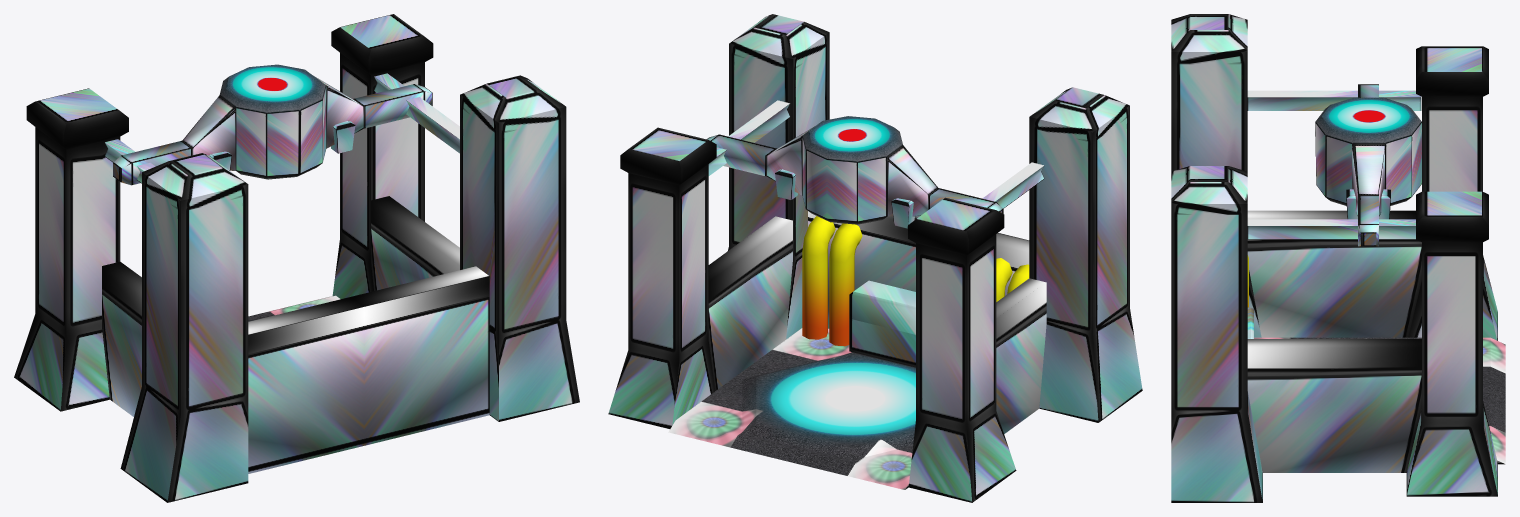
File: teleportpad.dae
3 renders of one model, left to right at view 1: azimuth 30°, elevation 25°; view 2: azimuth 150°, elevation 25°; view 3: azimuth 270°, elevation 25°, orthographic. The views are drawn at different scales.
Parts seen in each view (by area): view 1: teleportpad; view 2: teleportpad; view 3: teleportpad.
Part boxes in pixels (left/top/right/bottom): teleportpad: left=14, top=14, right=579, bottom=502; teleportpad: left=608, top=14, right=1142, bottom=502; teleportpad: left=1171, top=14, right=1505, bottom=502.
Bounding box in the file's own units: 15.3 × 10.97 × 11.09.
